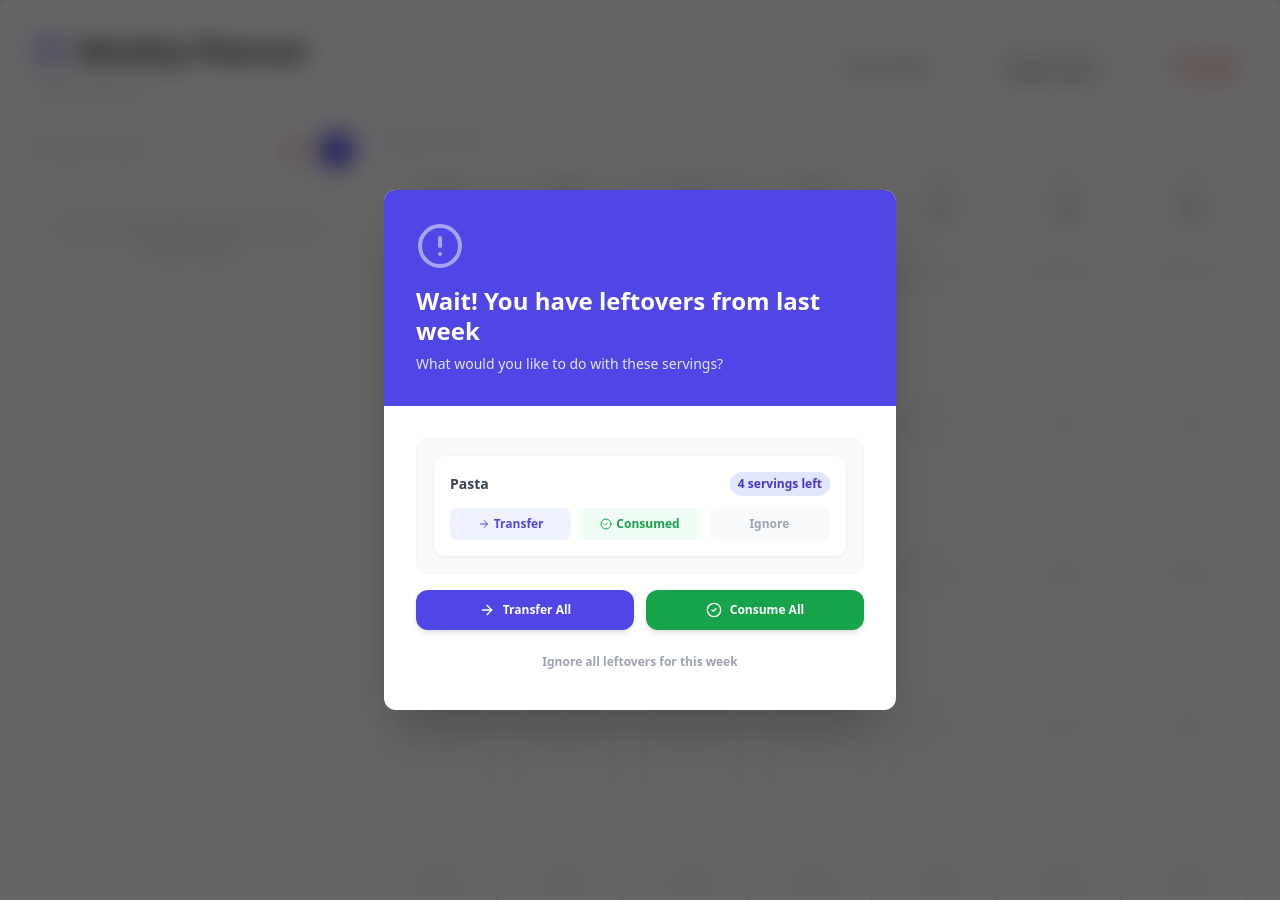
it: WeeklyPlanner › can ignore an individual leftover
Click the button "Ignore".
click(769, 524)  # box [709,508,830,540]
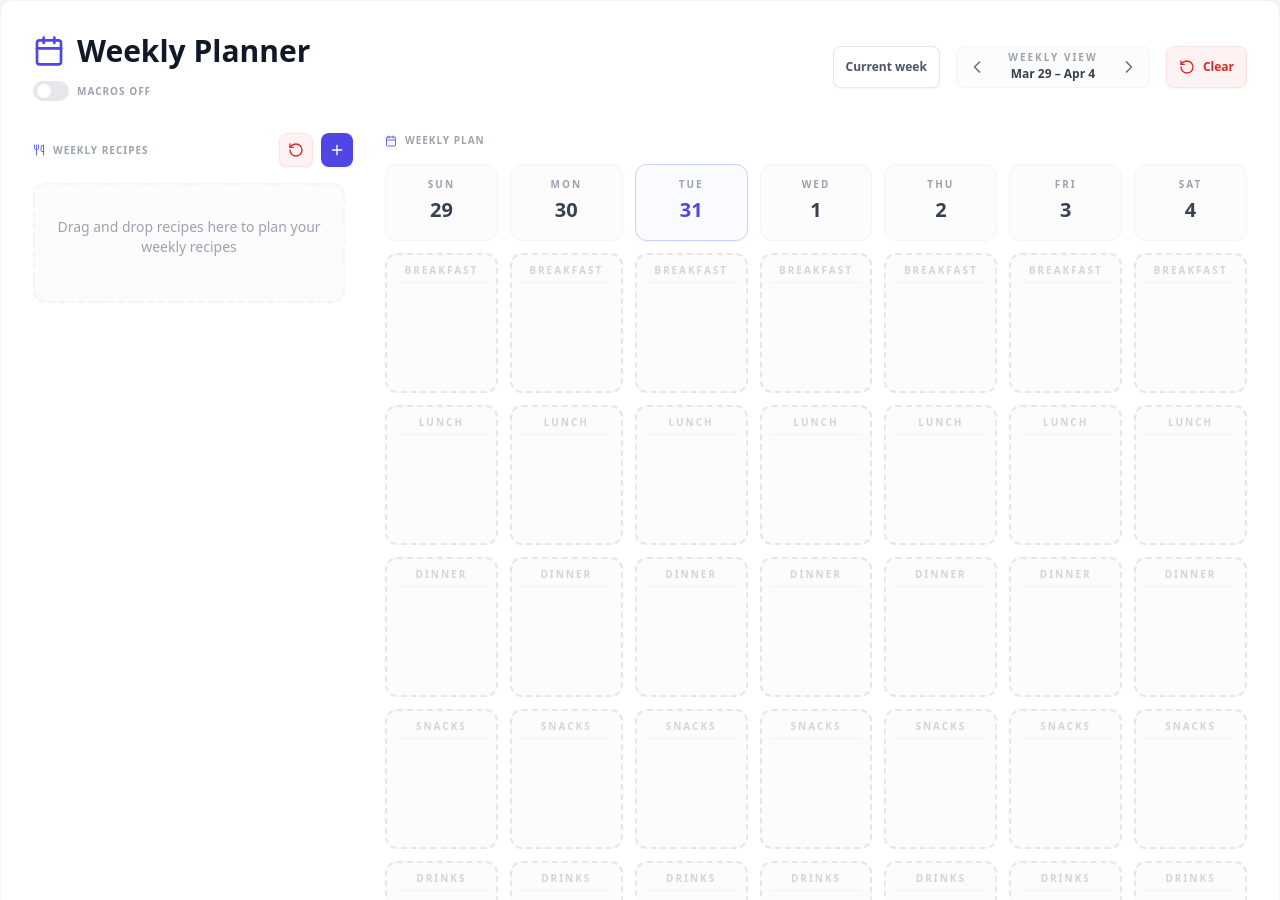
Now the heading "Wait! You have leftovers from last week" is gone
